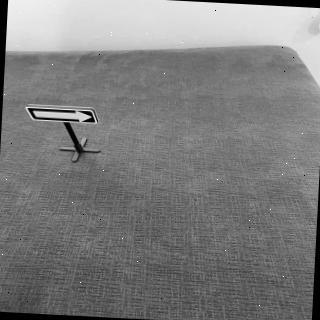sign_oneway_right: (26, 104, 102, 127)
